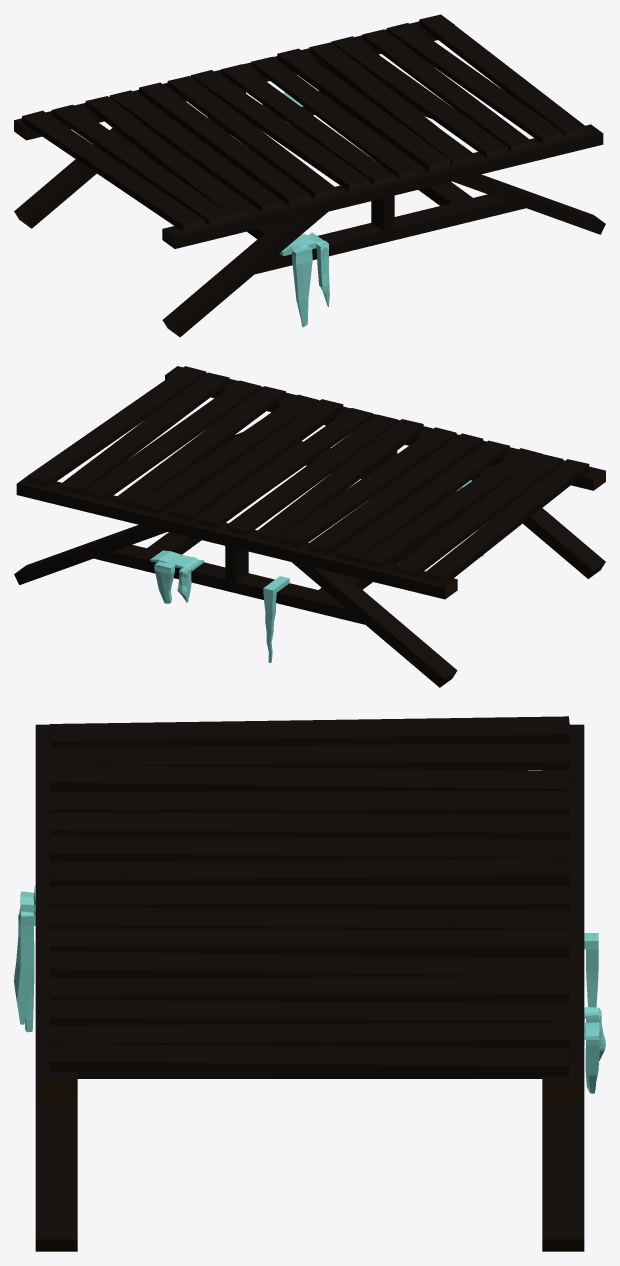
The model's file is SM_DarkWoodBridge.fbx.
The picture shows the model from 3 angles, top to bottom: view 1: azimuth 30°, elevation 25°; view 2: azimuth 150°, elevation 25°; view 3: azimuth 270°, elevation 25°; orthographic projection. The views are drawn at different scales.
Visible parts, largest first — view 1: SM_DarkWordBridge; view 2: SM_DarkWordBridge; view 3: SM_DarkWordBridge.
Boxes of the visible parts, x1,y1,x2,y2 form: SM_DarkWordBridge: [14, 14, 605, 337]; SM_DarkWordBridge: [14, 366, 605, 687]; SM_DarkWordBridge: [14, 716, 605, 1251].
Size of the model in its own units: 1006 by 278 by 701.
